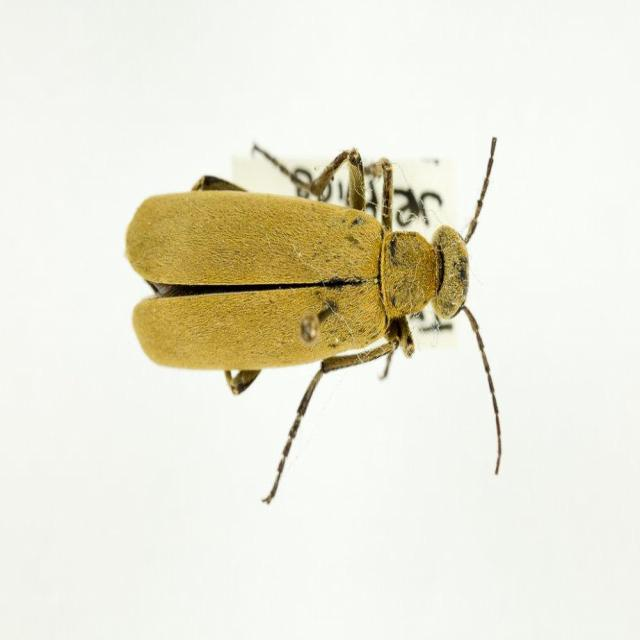BlisterBeetle-Adult-: (134, 121, 520, 470)
